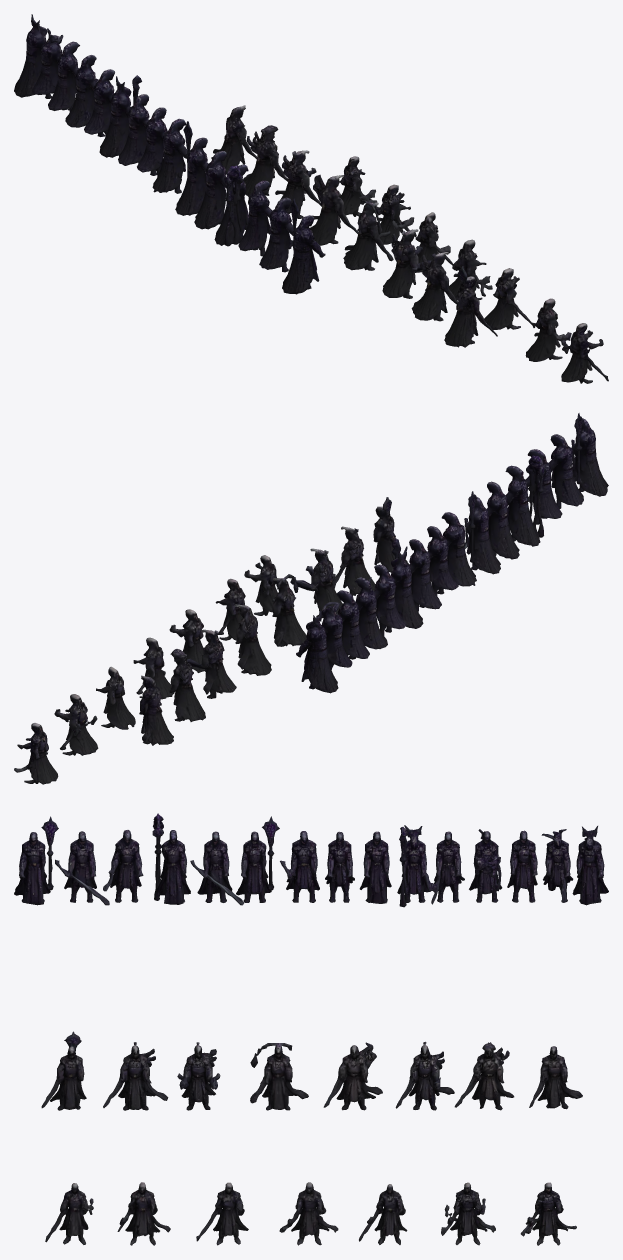
Rendered from characters-sheet.glb.
3 renders of one model, top to bottom at view 1: azimuth 30°, elevation 25°; view 2: azimuth 150°, elevation 25°; view 3: azimuth 270°, elevation 25°, orthographic. The views are drawn at different scales.
Parts seen in each view (by area): view 1: tripo_node_347055ef-76fe-436f-9bbe-edd815dba600; view 2: tripo_node_347055ef-76fe-436f-9bbe-edd815dba600; view 3: tripo_node_347055ef-76fe-436f-9bbe-edd815dba600.
Boxes of the visible parts, <box> form: tripo_node_347055ef-76fe-436f-9bbe-edd815dba600: <box>14,14,608,383</box>; tripo_node_347055ef-76fe-436f-9bbe-edd815dba600: <box>14,413,608,784</box>; tripo_node_347055ef-76fe-436f-9bbe-edd815dba600: <box>14,813,608,1245</box>.
Size of the model in its own units: 0.6743 by 0.5099 by 1.
1 material, 1 textured.
